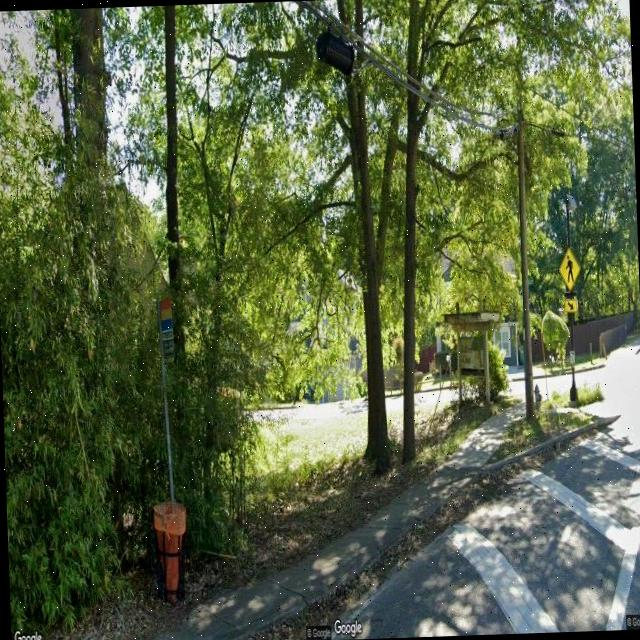trash_can: (152, 502, 187, 600)
